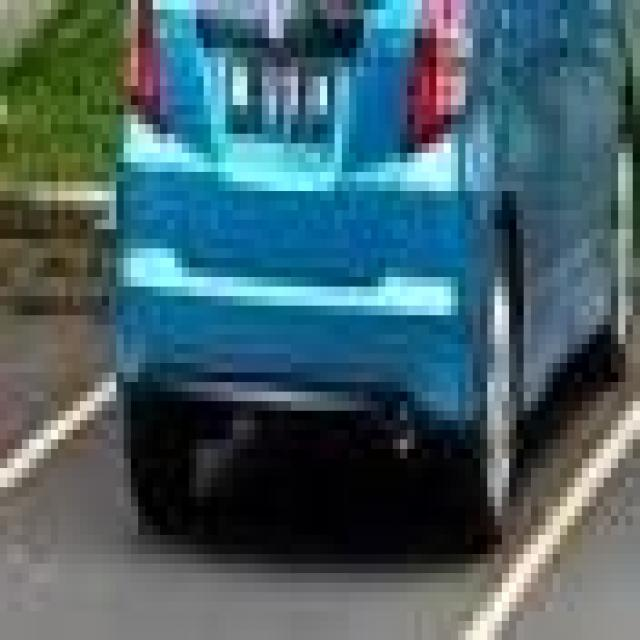Car: (129, 11, 622, 538)
